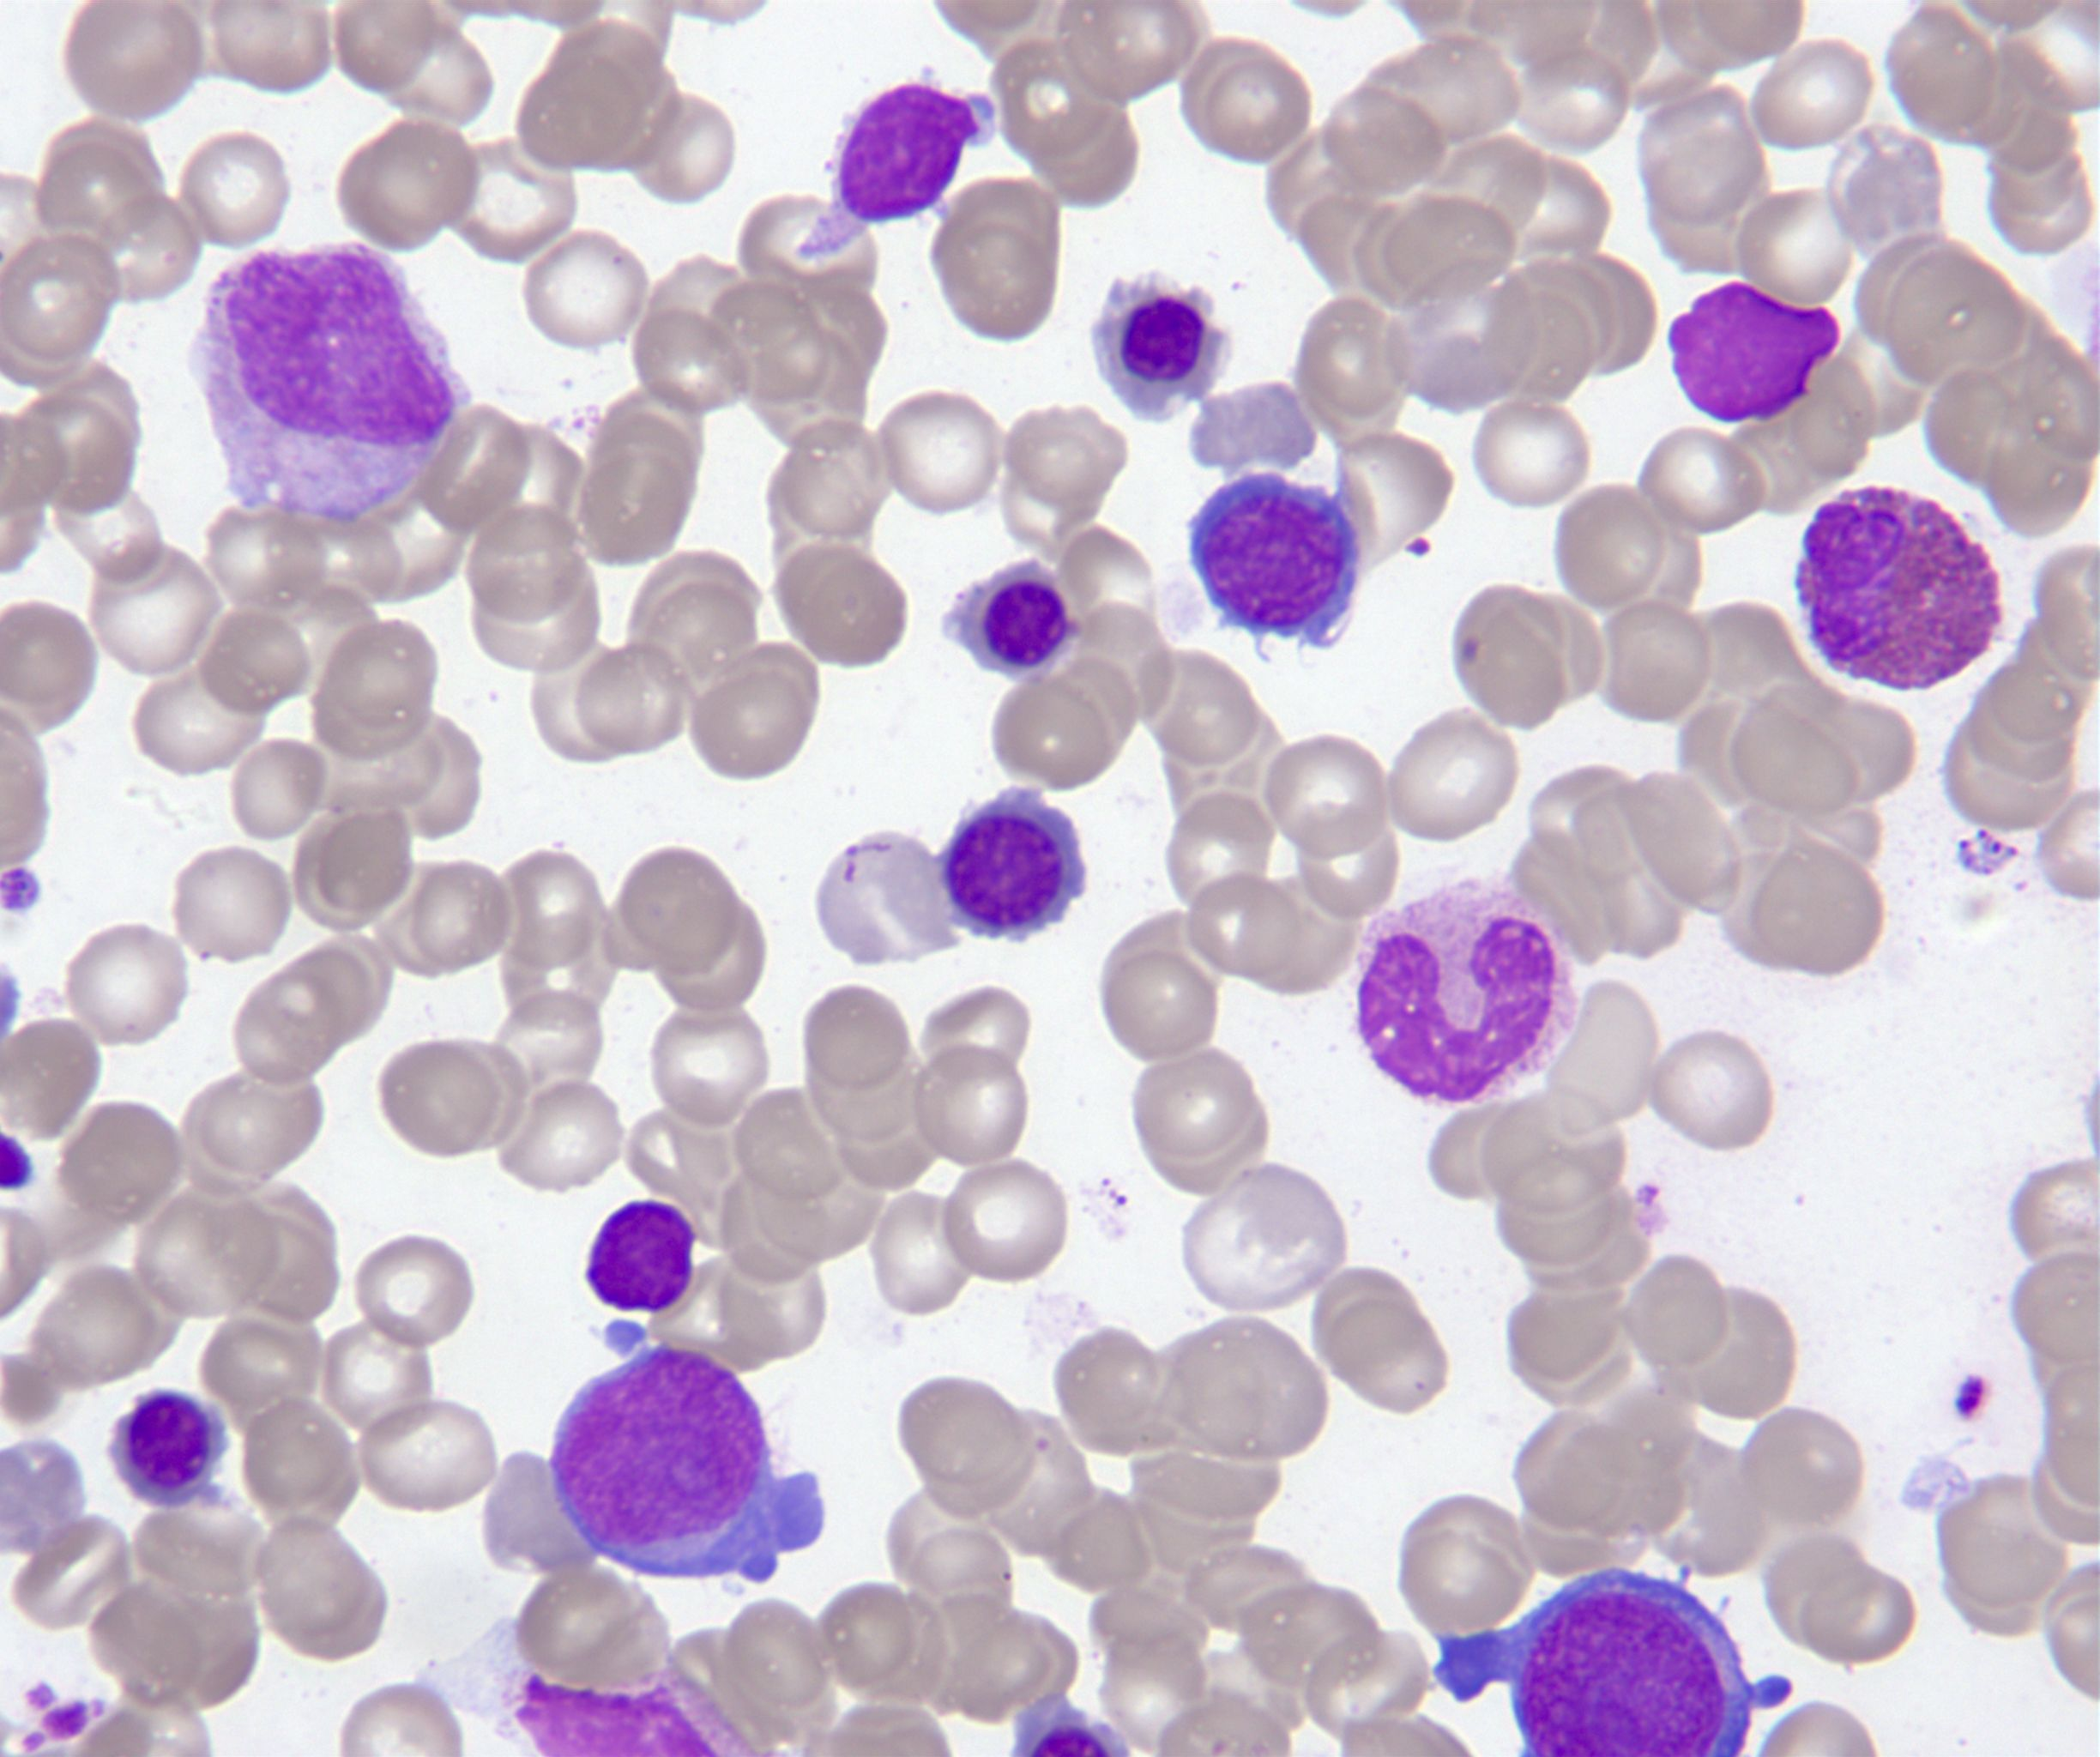21: (546, 1342, 827, 1590)
22: (1183, 464, 1364, 660)
23: (928, 775, 1087, 949), (103, 1387, 234, 1514)
24: (1083, 260, 1238, 433), (937, 551, 1090, 689)
3: (181, 236, 488, 529)
32: (816, 75, 1003, 232), (577, 1195, 705, 1317)
5: (1343, 872, 1585, 1115)
E4: (1788, 482, 2008, 698)
x: (1659, 272, 1845, 431)
